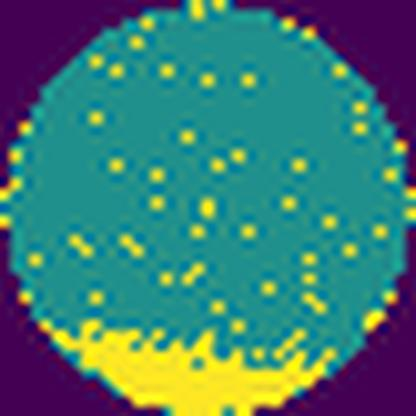Edge-Loc: (38, 316, 339, 416)
